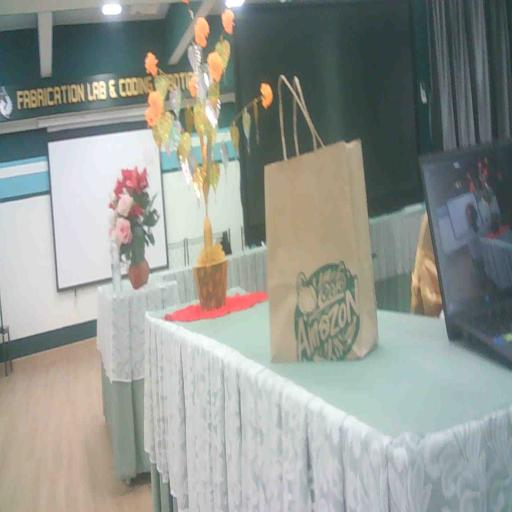bag: (261, 130, 384, 375)
